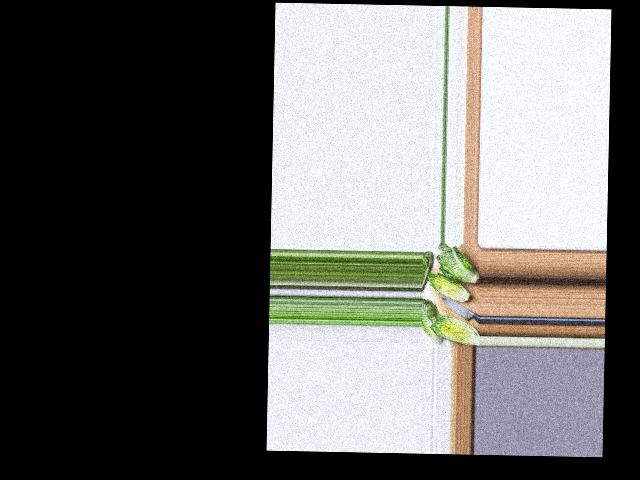lettuce: (423, 299, 442, 343)
